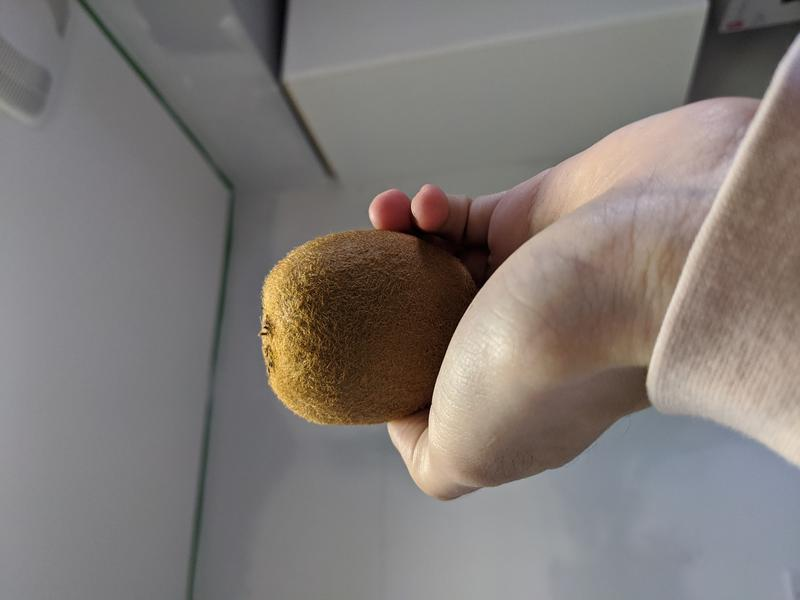kiwi: (258, 228, 479, 427)
